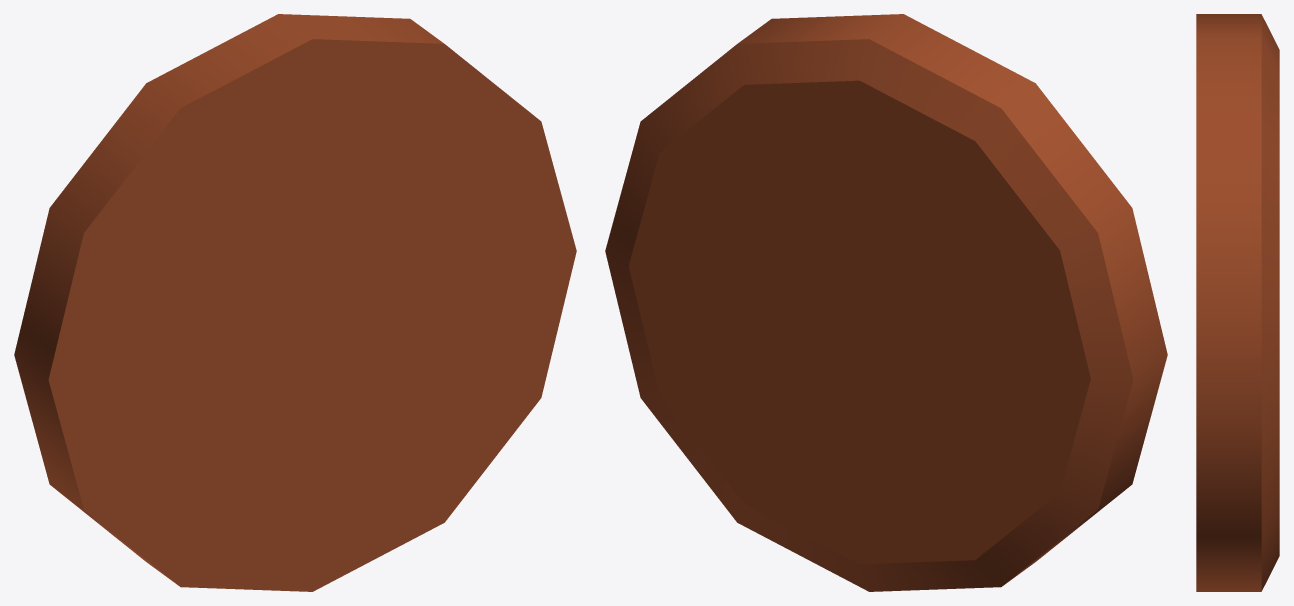
File: pod100_access_hatch.obj
The picture shows the model from 3 angles, left to right: view 1: azimuth 30°, elevation 25°; view 2: azimuth 150°, elevation 25°; view 3: azimuth 270°, elevation 25°; orthographic projection. The views are drawn at different scales.
Visible parts, largest first — view 1: pod100_access_hatch; view 2: pod100_access_hatch; view 3: pod100_access_hatch.
Boxes of the visible parts, bbox=[...] form: pod100_access_hatch: bbox=[14, 14, 576, 591]; pod100_access_hatch: bbox=[605, 14, 1167, 591]; pod100_access_hatch: bbox=[1196, 14, 1279, 591].
Size of the model in its own units: 1.6 by 1.6 by 0.23.
